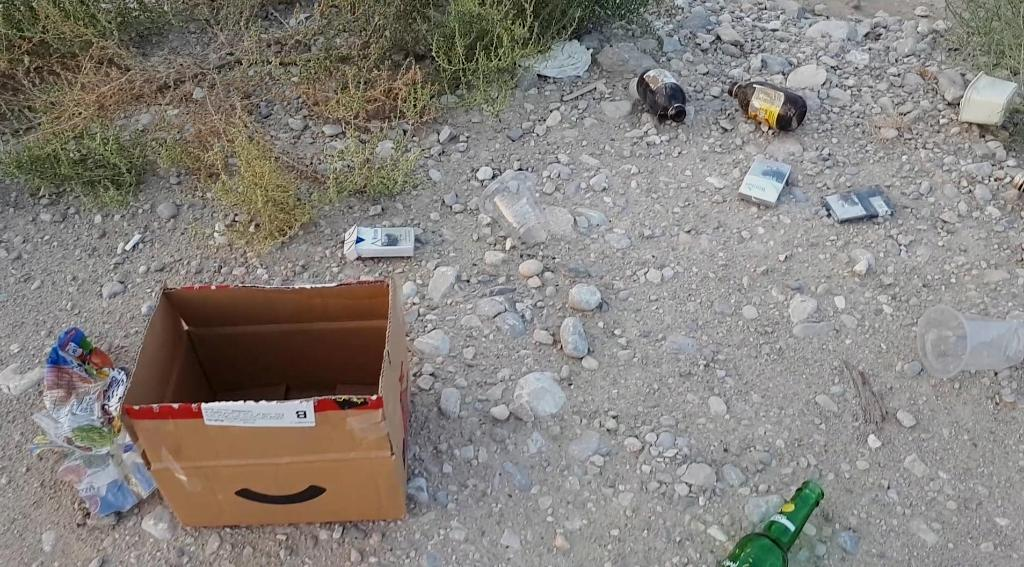garbage: (118, 270, 415, 539), (33, 323, 160, 530), (707, 473, 840, 566), (720, 481, 824, 567), (717, 70, 814, 130), (628, 62, 694, 131), (727, 81, 807, 132), (331, 223, 426, 262), (743, 151, 799, 215), (818, 190, 898, 227), (636, 67, 686, 122)
